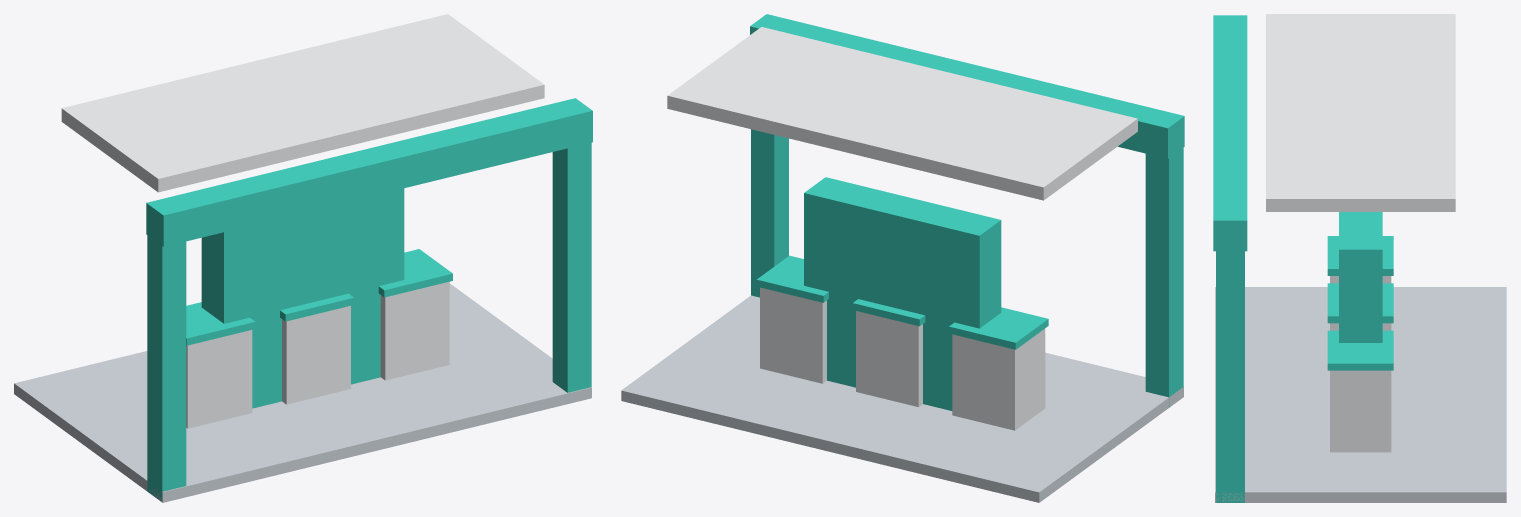
3 views of the same model, side by side, from view 1: azimuth 30°, elevation 25°; view 2: azimuth 150°, elevation 25°; view 3: azimuth 270°, elevation 25° (orthographic). The views are drawn at different scales.
Visible parts, largest first — view 1: Exhibition Booth Concept; view 2: Exhibition Booth Concept; view 3: Exhibition Booth Concept.
Boxes of the visible parts, <box> form: Exhibition Booth Concept: <box>14,14,592,502</box>; Exhibition Booth Concept: <box>621,14,1184,502</box>; Exhibition Booth Concept: <box>1213,14,1506,502</box>.
Size of the model in its own units: 5 by 3.34 by 3.01.
